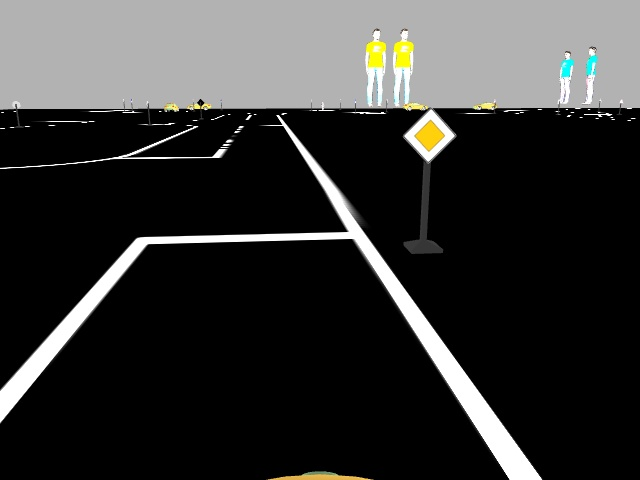Priority: (405, 105, 453, 160)
